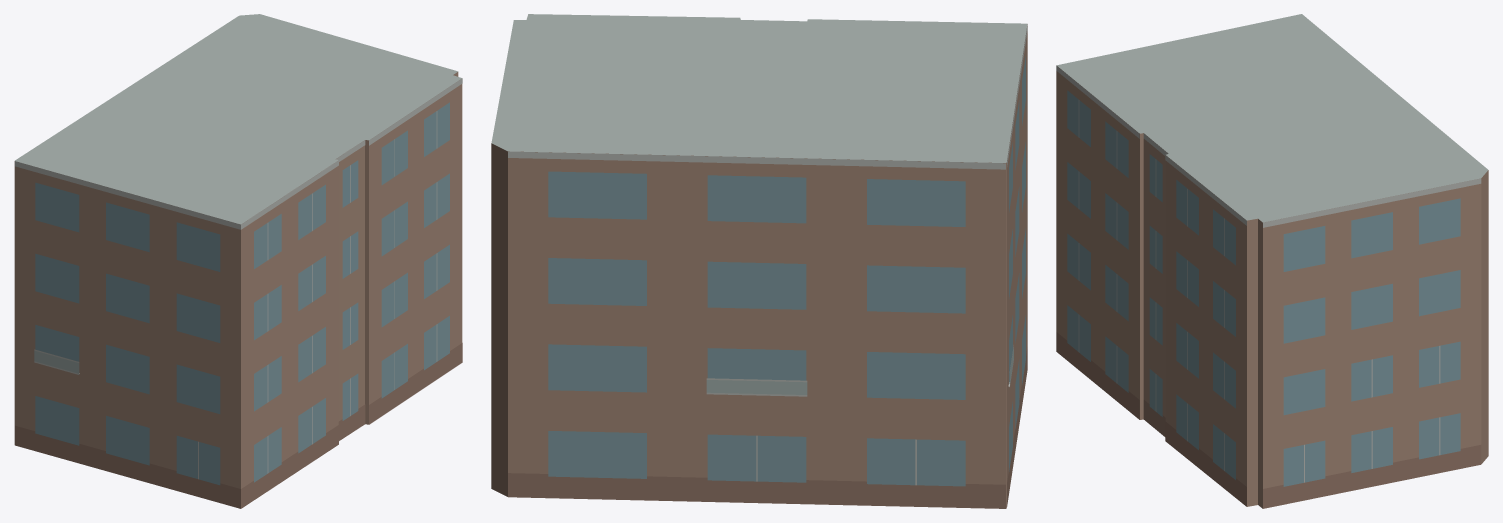
File: survey-upis-32668177.glb
3 views of the same model, side by side, from view 1: azimuth 30°, elevation 25°; view 2: azimuth 150°, elevation 25°; view 3: azimuth 270°, elevation 25° (orthographic). The views are drawn at different scales.
Visible parts, largest first — view 1: survey-upis-32668177.tmp; view 2: survey-upis-32668177.tmp; view 3: survey-upis-32668177.tmp.
Boxes of the visible parts, x1=… form: survey-upis-32668177.tmp: x1=14, y1=14, x2=462, y2=508; survey-upis-32668177.tmp: x1=491, y1=14, x2=1027, y2=508; survey-upis-32668177.tmp: x1=1056, y1=14, x2=1488, y2=508.
Bounding box in the file's own units: 20.31 × 13 × 17.79.
